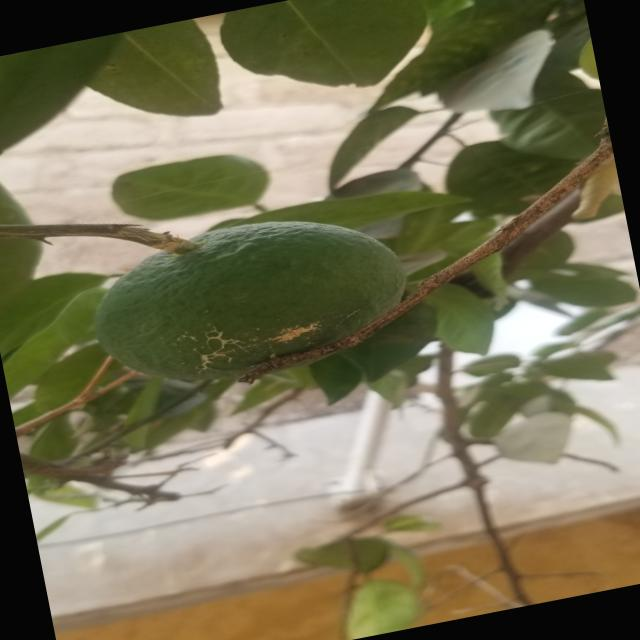Unripe: (67, 190, 418, 423)
